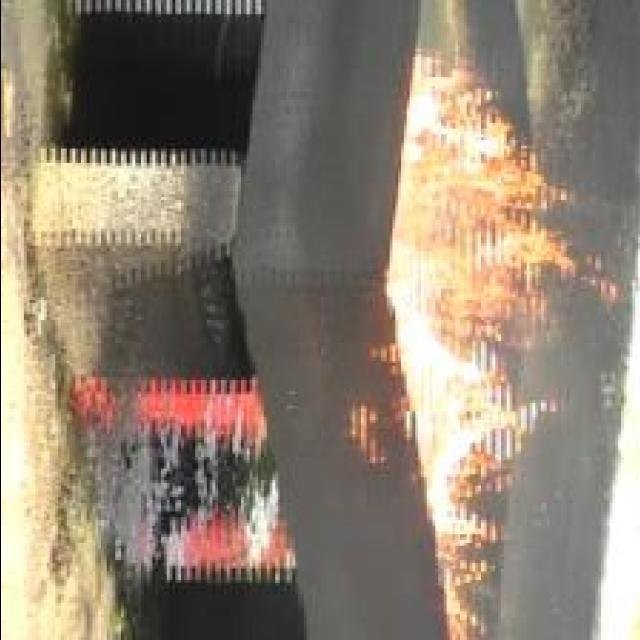Fire: (380, 51, 614, 640)
